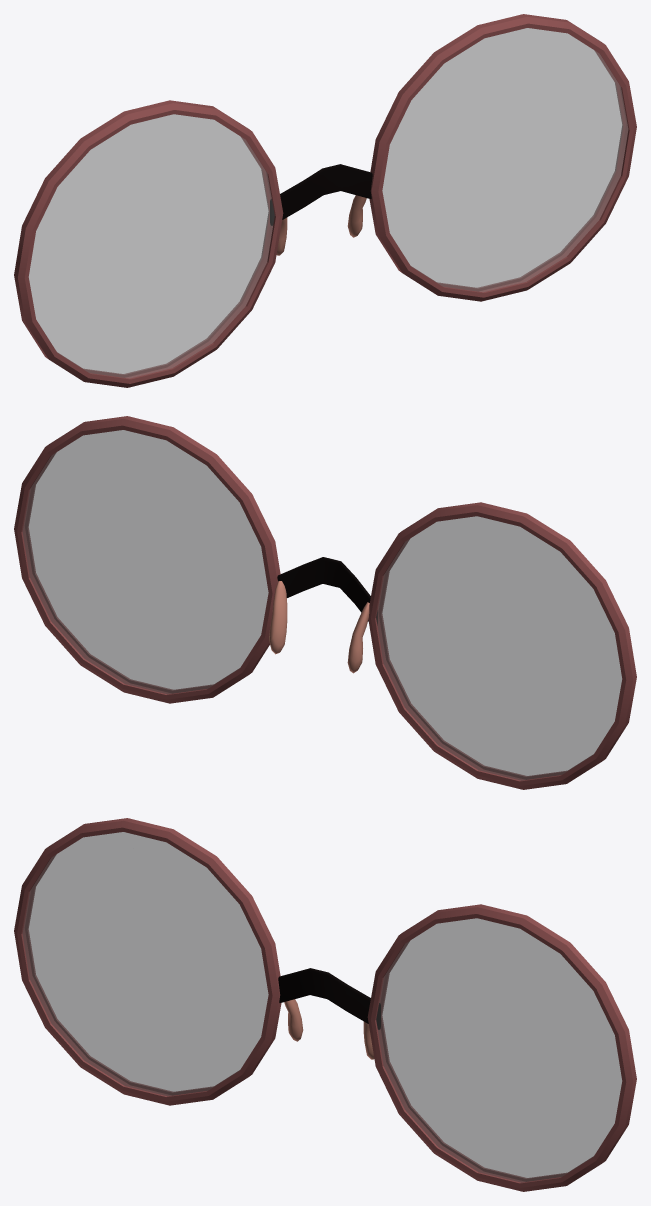
File: round glass.fbx
3 renders of one model, top to bottom at view 1: azimuth 30°, elevation 25°; view 2: azimuth 150°, elevation 25°; view 3: azimuth 330°, elevation 25°, orthographic.
Parts seen in each view (by area): view 1: polySurface2; view 2: polySurface2; view 3: polySurface2.
Boxes of the visible parts, left/top/right/bottom form: polySurface2: left=14, top=14, right=636, bottom=387; polySurface2: left=14, top=416, right=636, bottom=789; polySurface2: left=14, top=818, right=636, bottom=1191.
Bounding box in the file's own units: 561 × 237 × 33.06.
